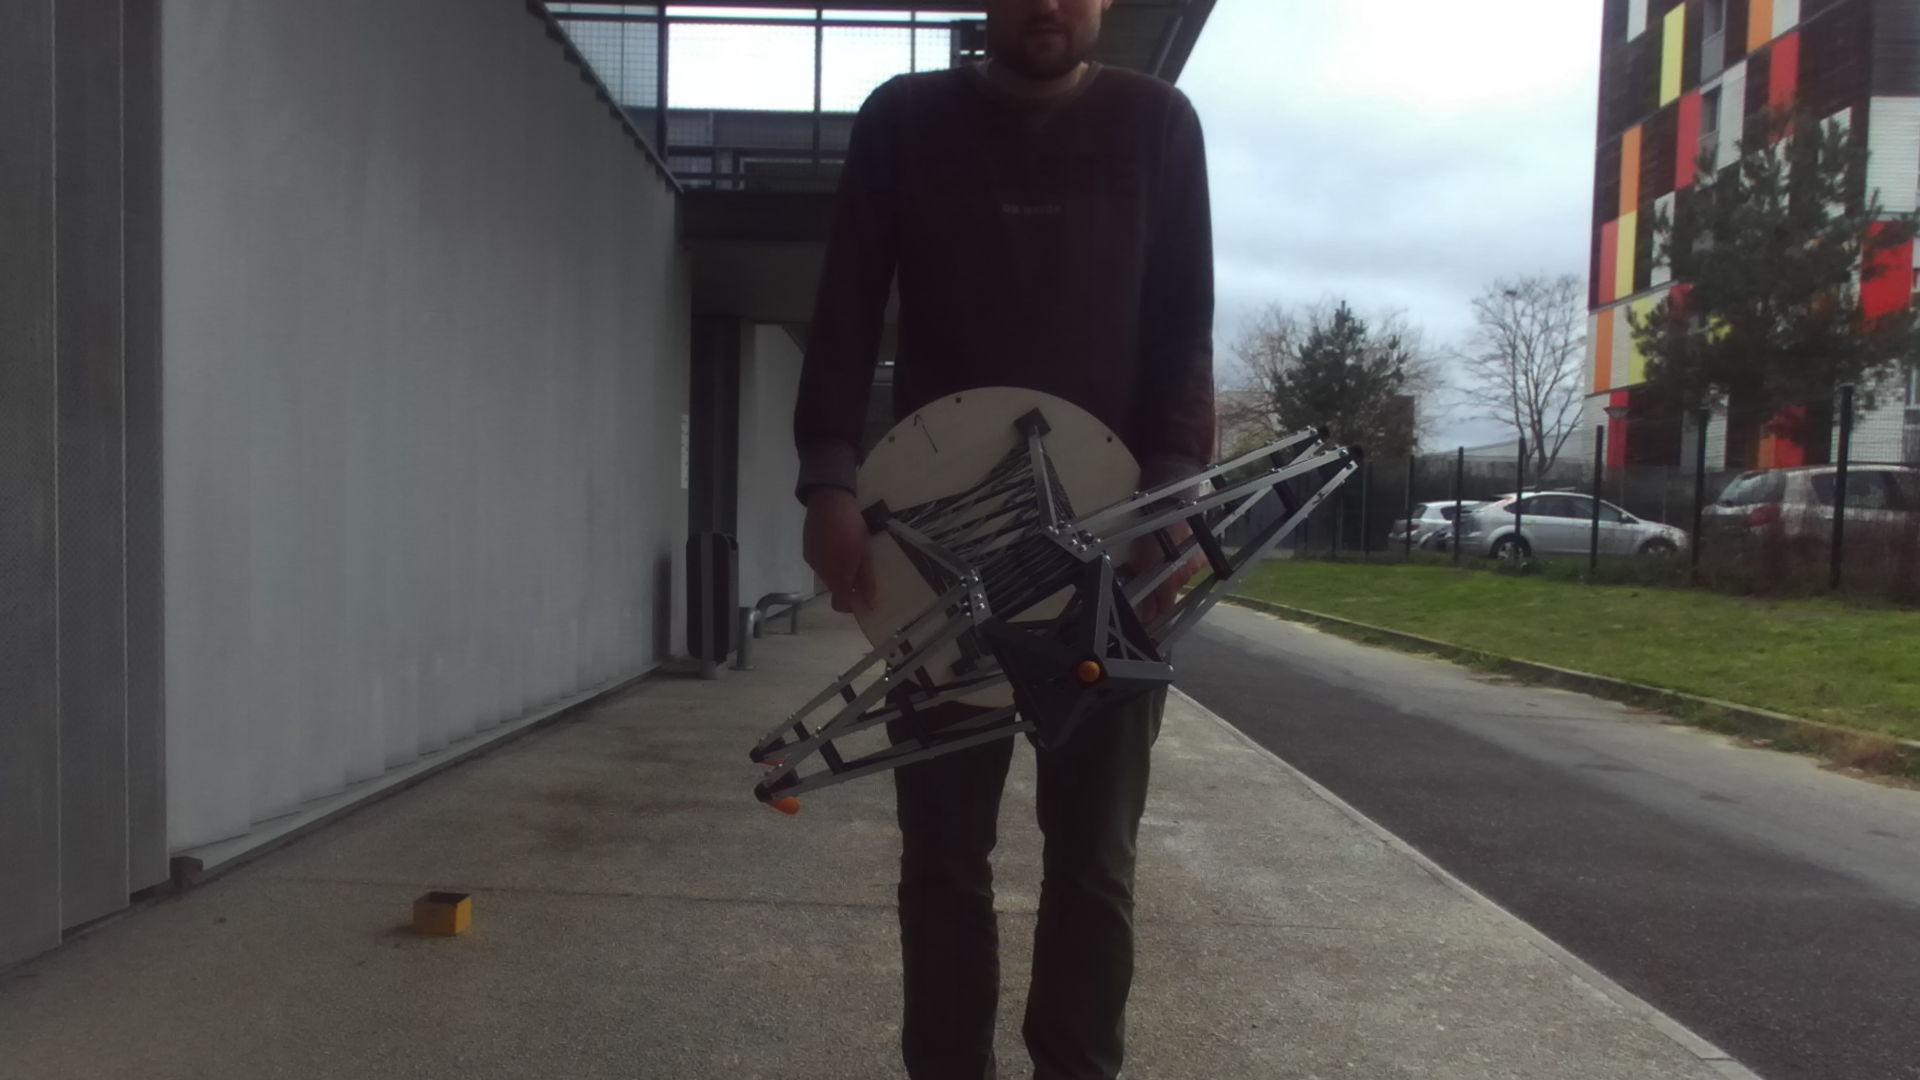pylon_phy: (749, 443, 1371, 808)
